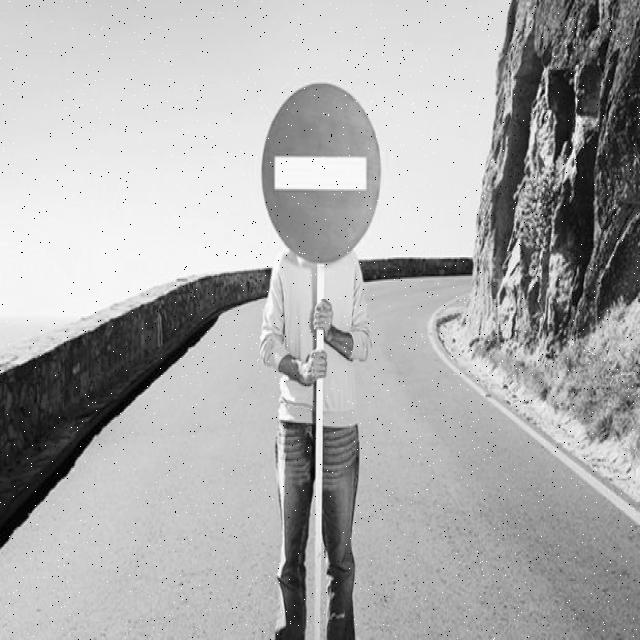no entry: (262, 84, 381, 264)
